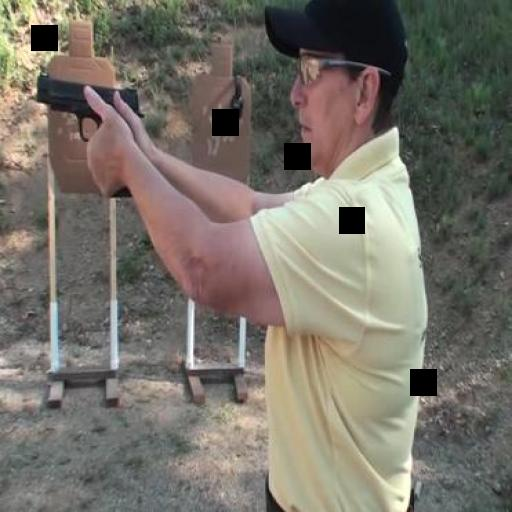Handgun: (34, 70, 140, 198)
